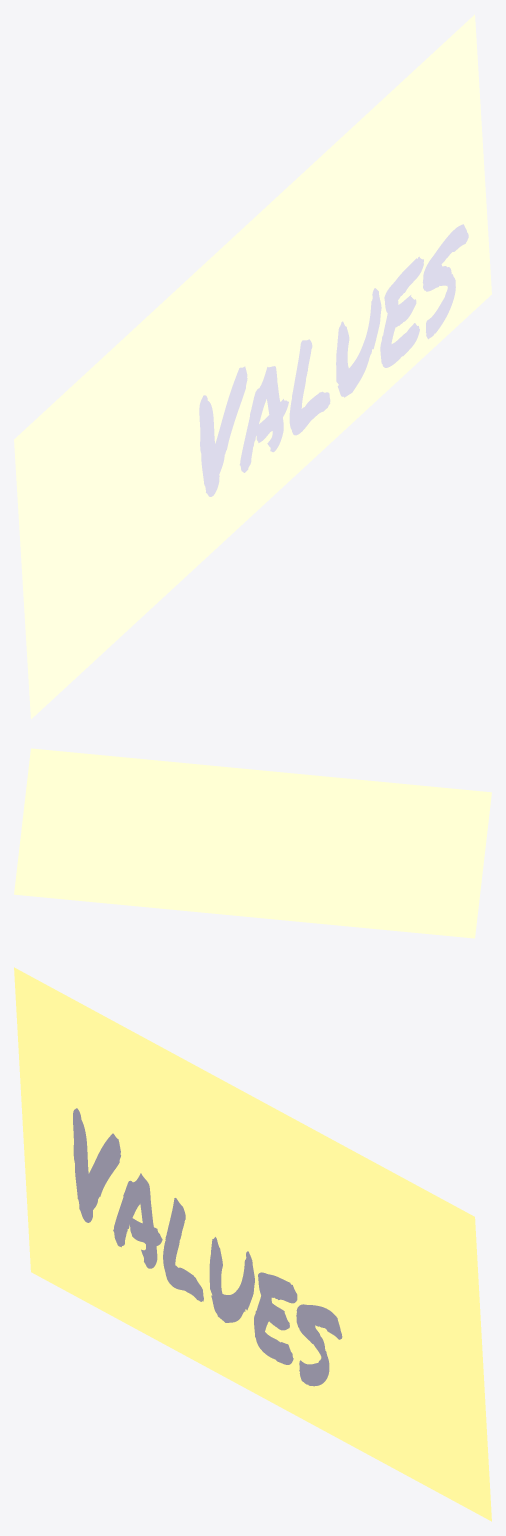
The model's file is btnvalues.6e5f0e87.gltf.
The picture shows the model from 3 angles, top to bottom: view 1: azimuth 30°, elevation 25°; view 2: azimuth 150°, elevation 25°; view 3: azimuth 270°, elevation 25°; orthographic projection. The views are drawn at different scales.
Parts seen in each view (by area): view 1: Plane.024, btn values; view 2: Plane.024; view 3: Plane.024, btn values.
Boxes of the visible parts, <box> form: Plane.024: <box>14,14,491,719</box>; btn values: <box>199,224,468,496</box>; Plane.024: <box>14,748,491,938</box>; Plane.024: <box>14,967,491,1521</box>; btn values: <box>73,1108,342,1386</box>.
Bounding box in the file's own units: 2.14 × 1.09 × 1.24.
